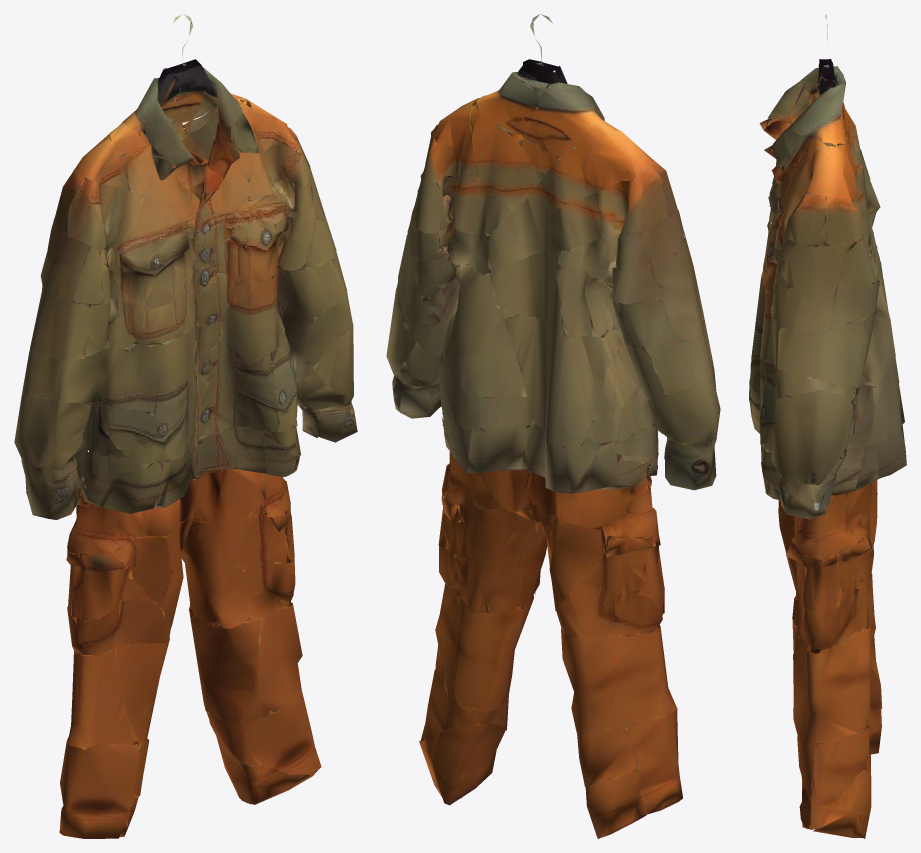
Rendered from Hanging_empty_canvas_worker_uniform_orange_trousers-game.glb.
3 views of the same model, side by side, from view 1: azimuth 30°, elevation 25°; view 2: azimuth 150°, elevation 25°; view 3: azimuth 270°, elevation 25° (orthographic). The views are drawn at different scales.
Parts seen in each view (by area): view 1: Mesh_0; view 2: Mesh_0; view 3: Mesh_0.
Boxes of the visible parts, <box> form: Mesh_0: <box>14,14,357,838</box>; Mesh_0: <box>386,14,720,838</box>; Mesh_0: <box>749,14,906,838</box>.
Bounding box in the file's own units: 0.8219 × 1.9 × 0.3454.
Materials: 1 (1 with a texture image).
